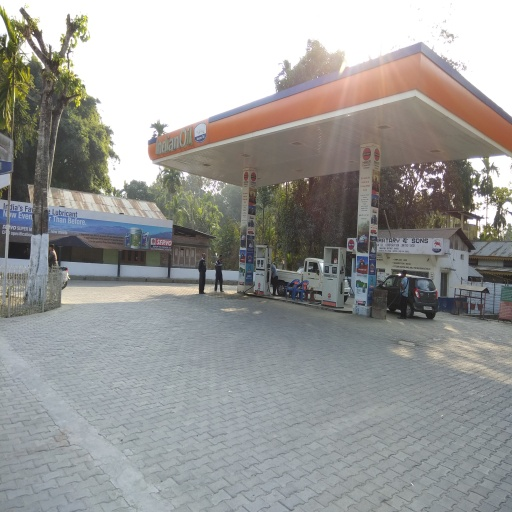roof: (148, 44, 512, 186)
